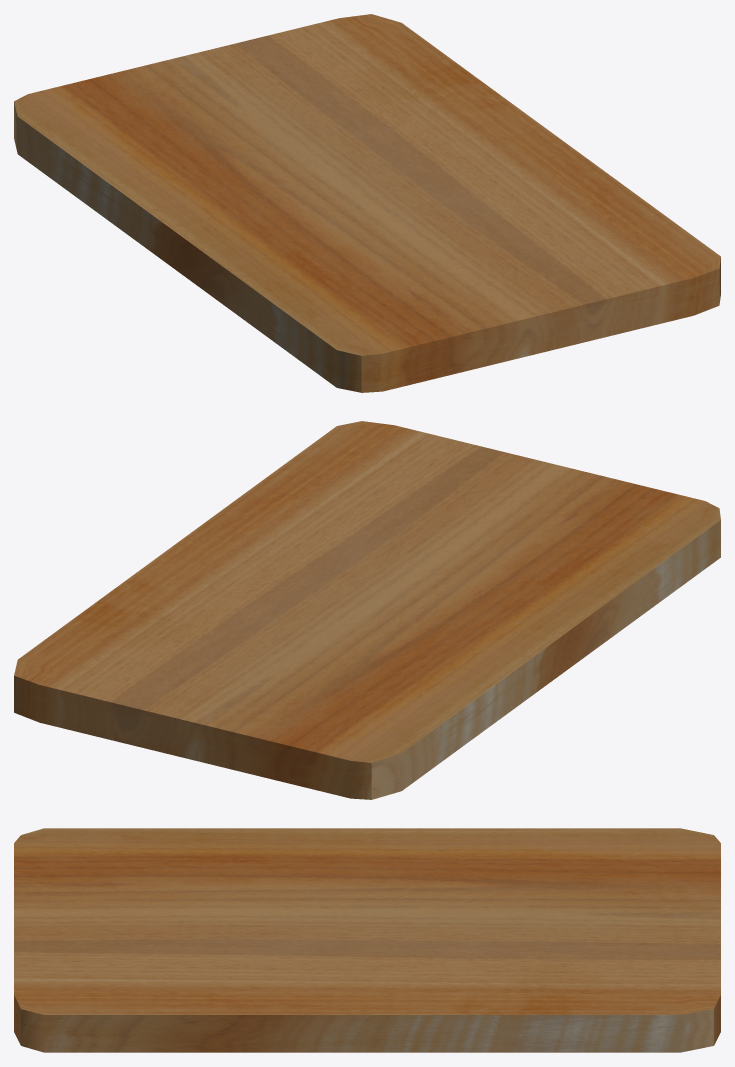
The model's file is cuttingboard.fbx.
3 views of the same model, one above another, from view 1: azimuth 30°, elevation 25°; view 2: azimuth 150°, elevation 25°; view 3: azimuth 270°, elevation 25° (orthographic).
Parts seen in each view (by area): view 1: pCube1; view 2: pCube1; view 3: pCube1.
Boxes of the visible parts, x1,y1,x2,y2 form: pCube1: (14, 14, 720, 392); pCube1: (14, 421, 720, 799); pCube1: (14, 828, 720, 1052).
Bounding box in the file's own units: 10 × 0.94 × 16.
Materials: 1 (1 with a texture image).
